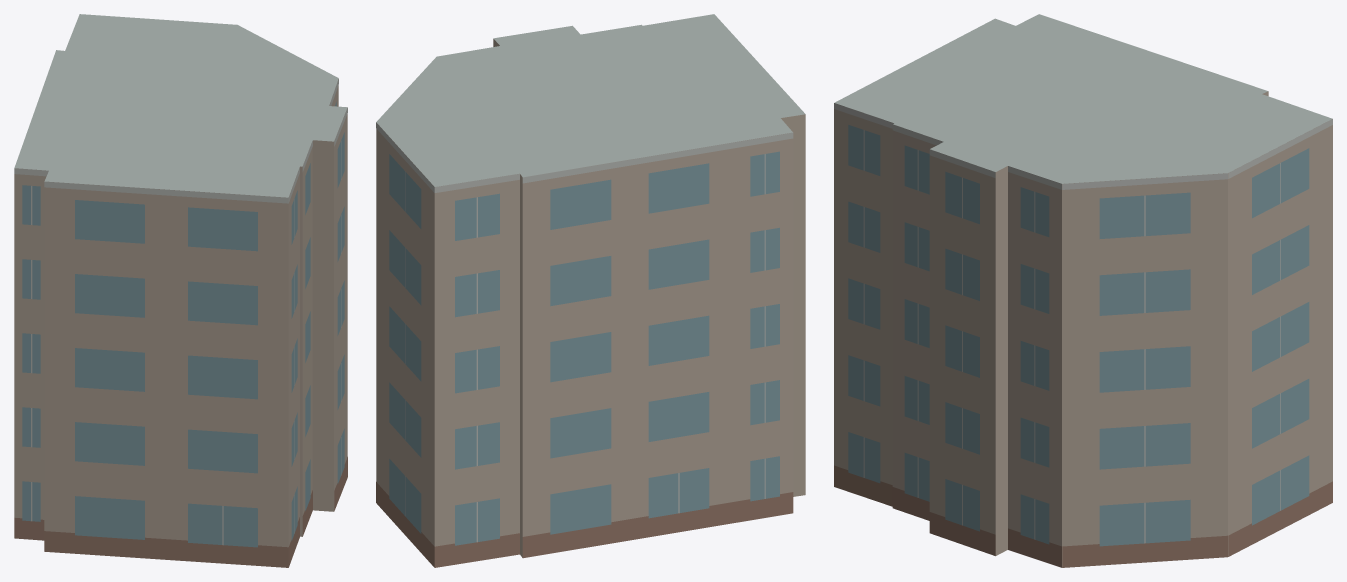
The model's file is survey-upis-32487120.glb.
3 views of the same model, side by side, from view 1: azimuth 30°, elevation 25°; view 2: azimuth 150°, elevation 25°; view 3: azimuth 270°, elevation 25° (orthographic). The views are drawn at different scales.
Visible parts, largest first — view 1: survey-upis-32487120.tmp; view 2: survey-upis-32487120.tmp; view 3: survey-upis-32487120.tmp.
Part boxes in pixels (bbox=[...]): survey-upis-32487120.tmp: bbox=[14, 14, 347, 567]; survey-upis-32487120.tmp: bbox=[376, 14, 805, 567]; survey-upis-32487120.tmp: bbox=[834, 14, 1332, 567].
Size of the model in its own units: 14.52 by 15.3 by 18.02.
